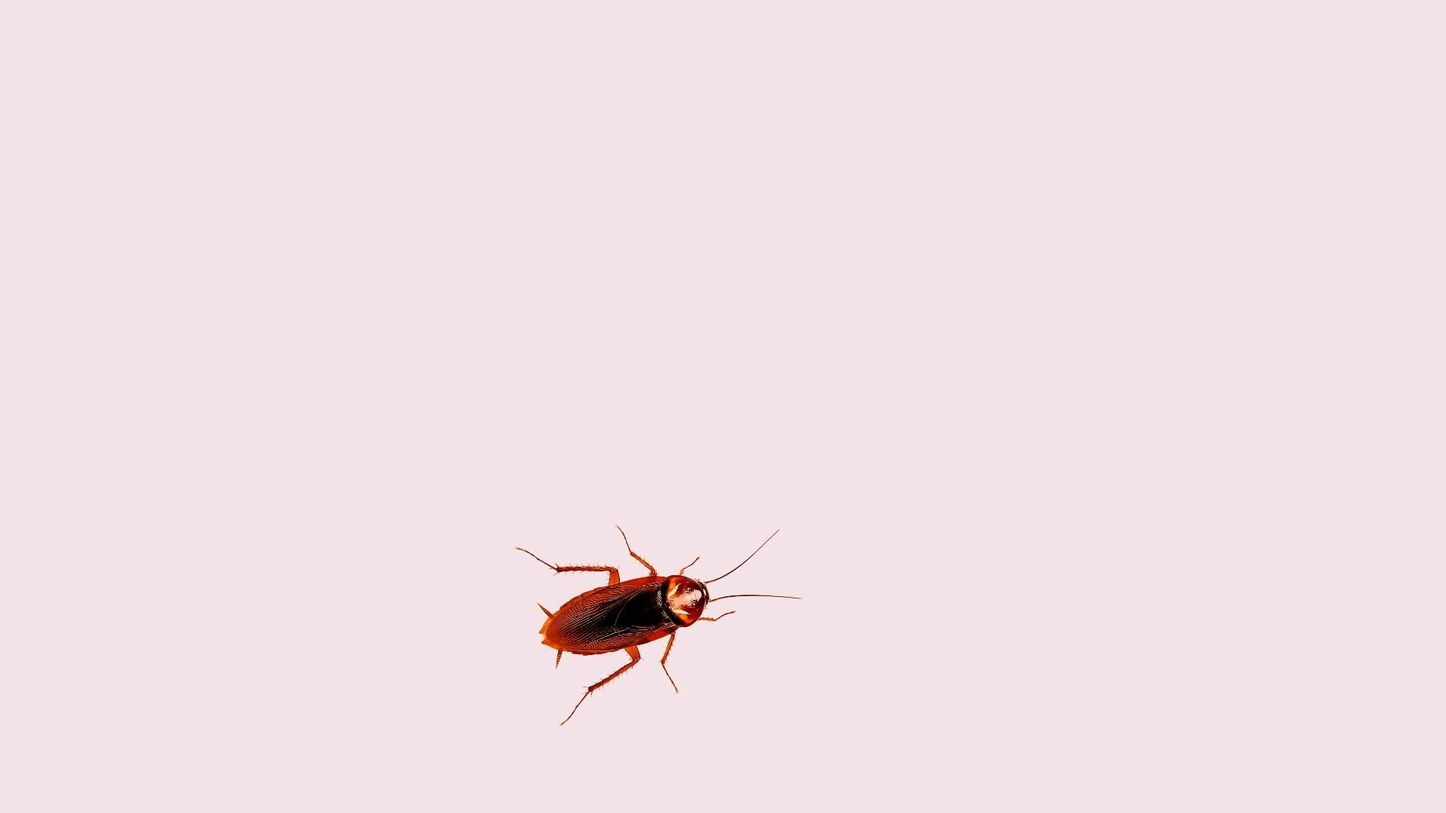cockroach: (511, 524, 804, 697)
